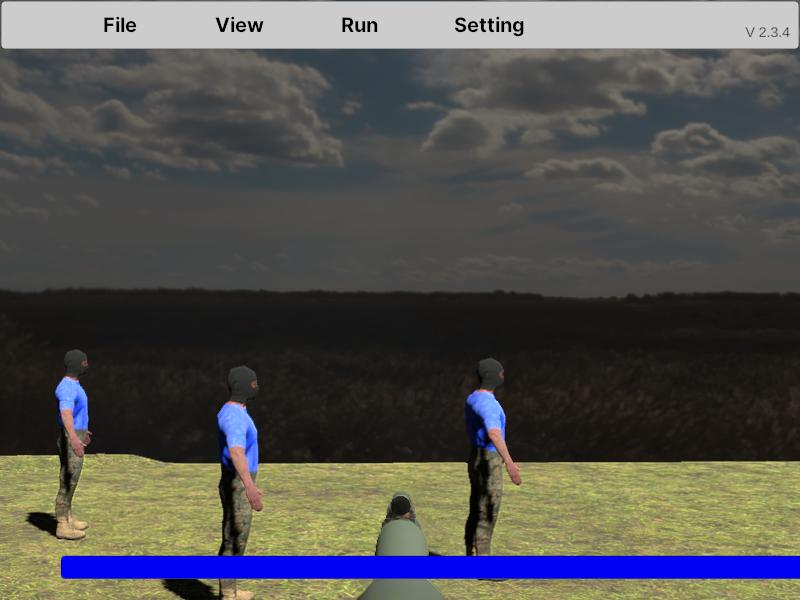Human: (464, 355, 522, 577), (217, 363, 263, 600), (55, 346, 93, 543)
